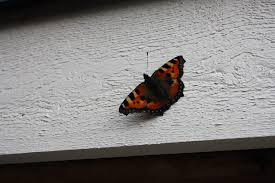Butterfly: (118, 55, 187, 117)
